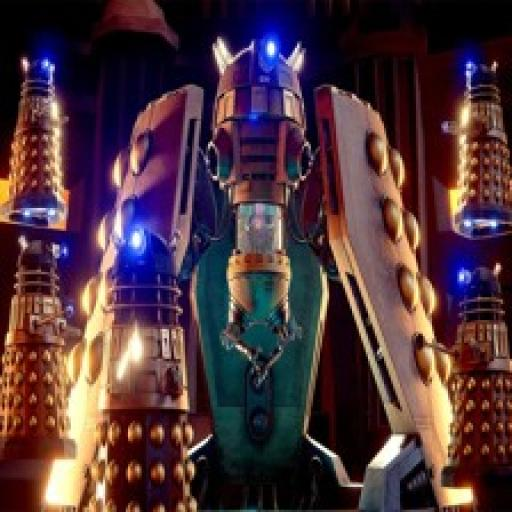dalek: (41, 29, 473, 512), (86, 220, 202, 512), (406, 258, 512, 484), (0, 230, 78, 460), (433, 47, 512, 239), (8, 55, 65, 227)
